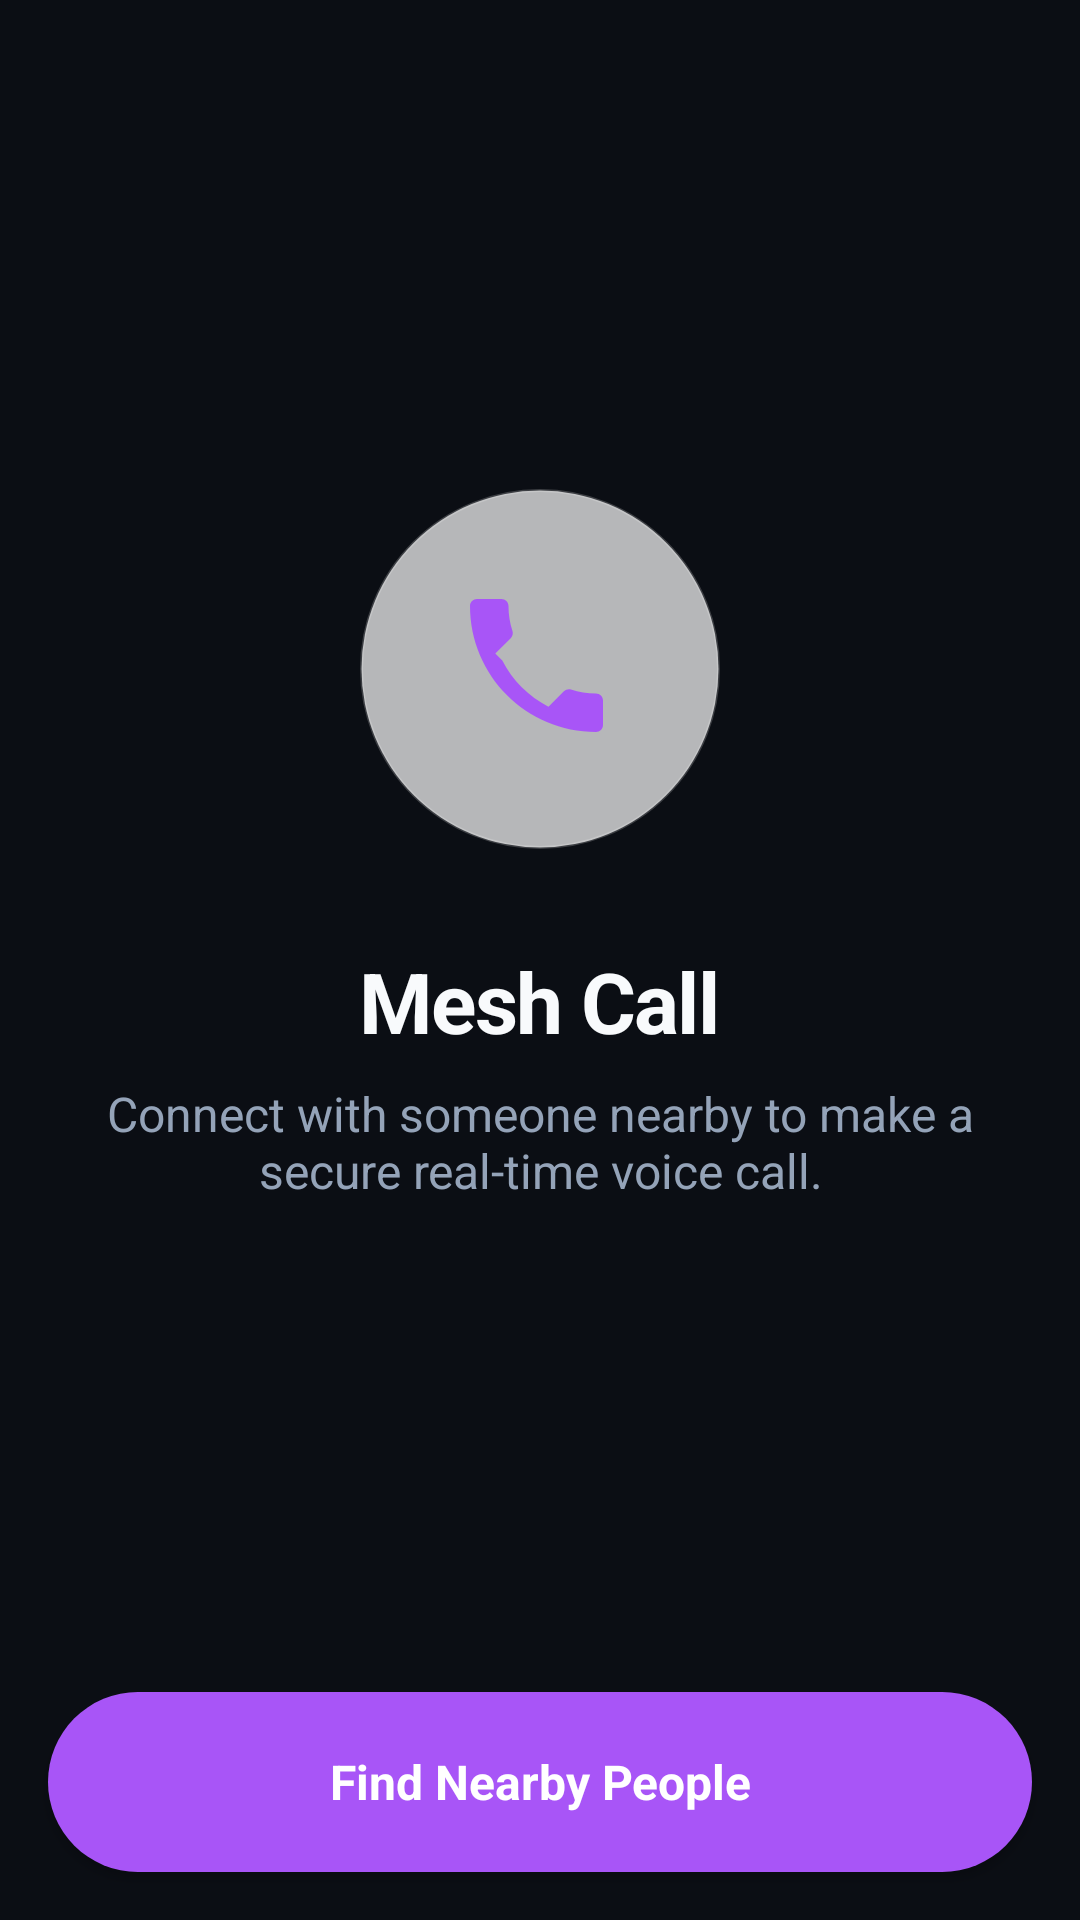

Screen size 1080 × 1920. Icon name, then its box in pixels as {"left": x1, "top": y1, "right": x2, "bottom": y2}:
call premium: {"left": 360, "top": 489, "right": 720, "bottom": 849}
